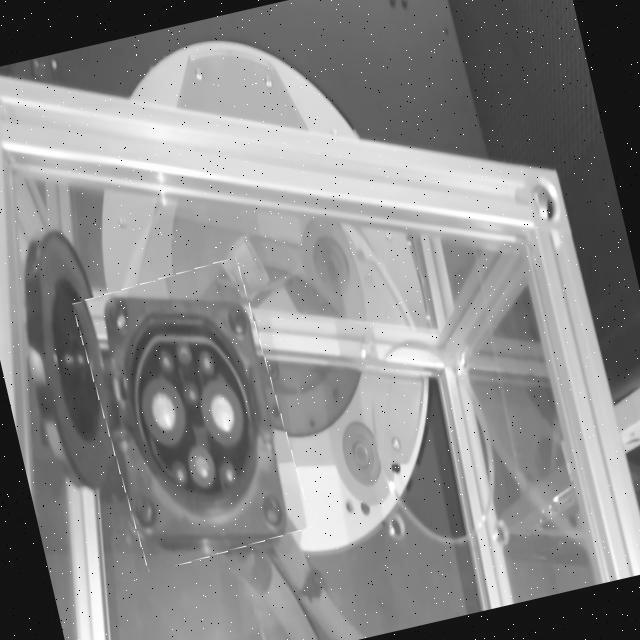GB-T: (96, 313, 282, 531)
